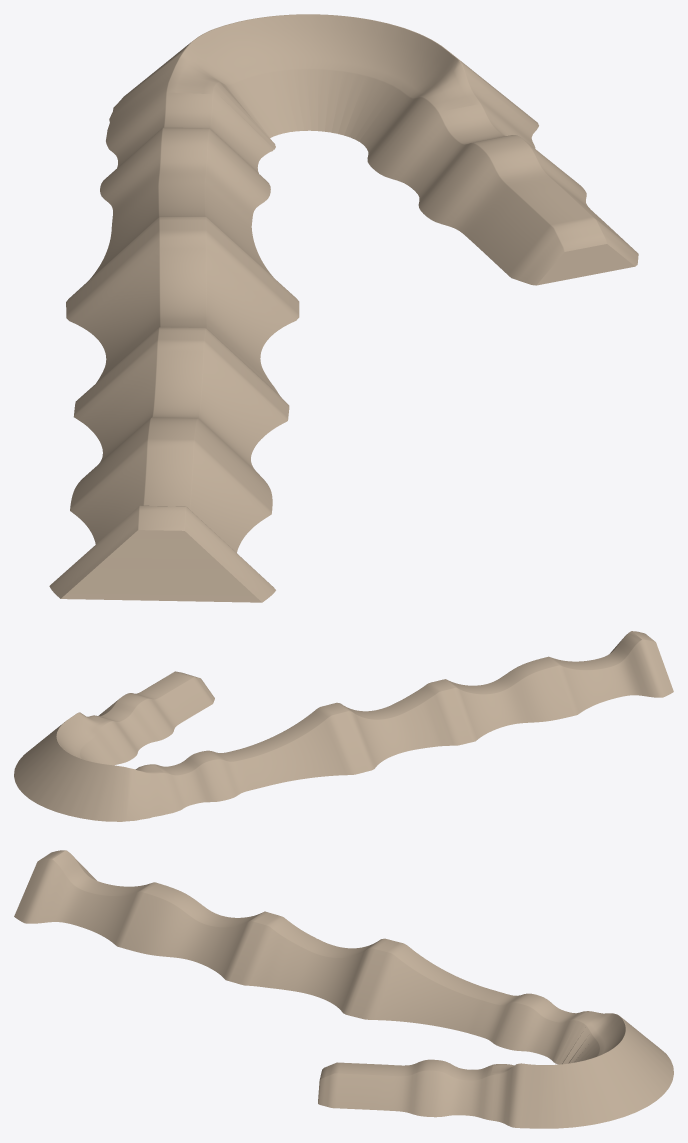
File: jump_2_2.glb
The picture shows the model from 3 angles, top to bottom: view 1: azimuth 30°, elevation 25°; view 2: azimuth 150°, elevation 25°; view 3: azimuth 270°, elevation 25°; orthographic projection. The views are drawn at different scales.
Size of the model in its own units: 32.39 by 3.76 by 37.81.
